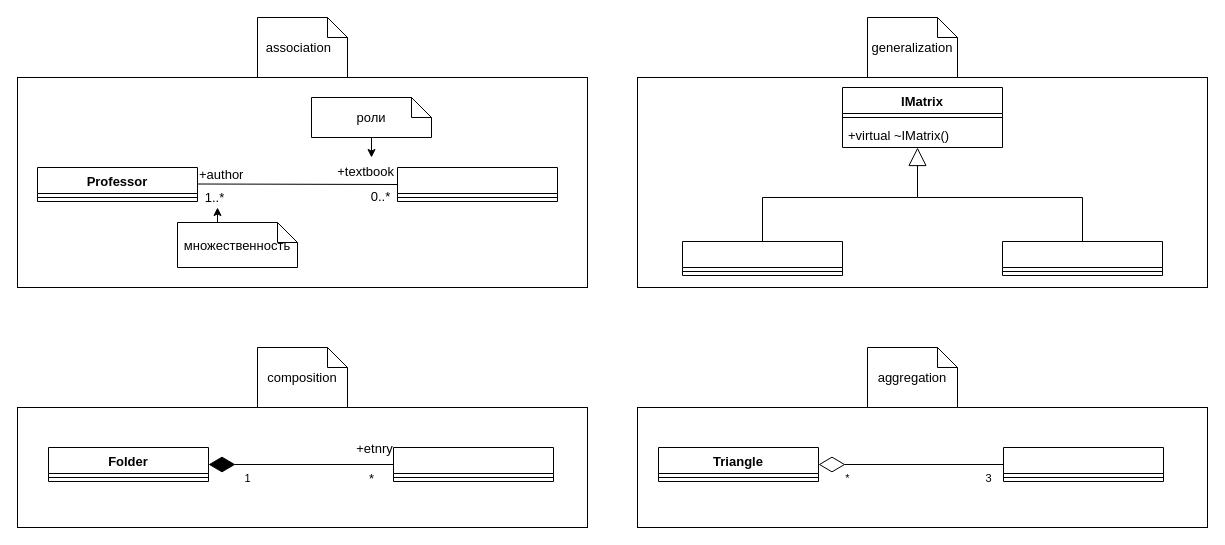
The diagram is 1225 pixels wide and 545 high, and some of its shapes have lost their labels. Here are the shapes that lost their labels. From the top down, the box of each, then its label:
(396, 166, 558, 202): Book
(682, 240, 842, 276): Matrix
(1002, 240, 1162, 276): LazyMatrix
(392, 446, 554, 482): File
(1002, 446, 1164, 482): Segment
